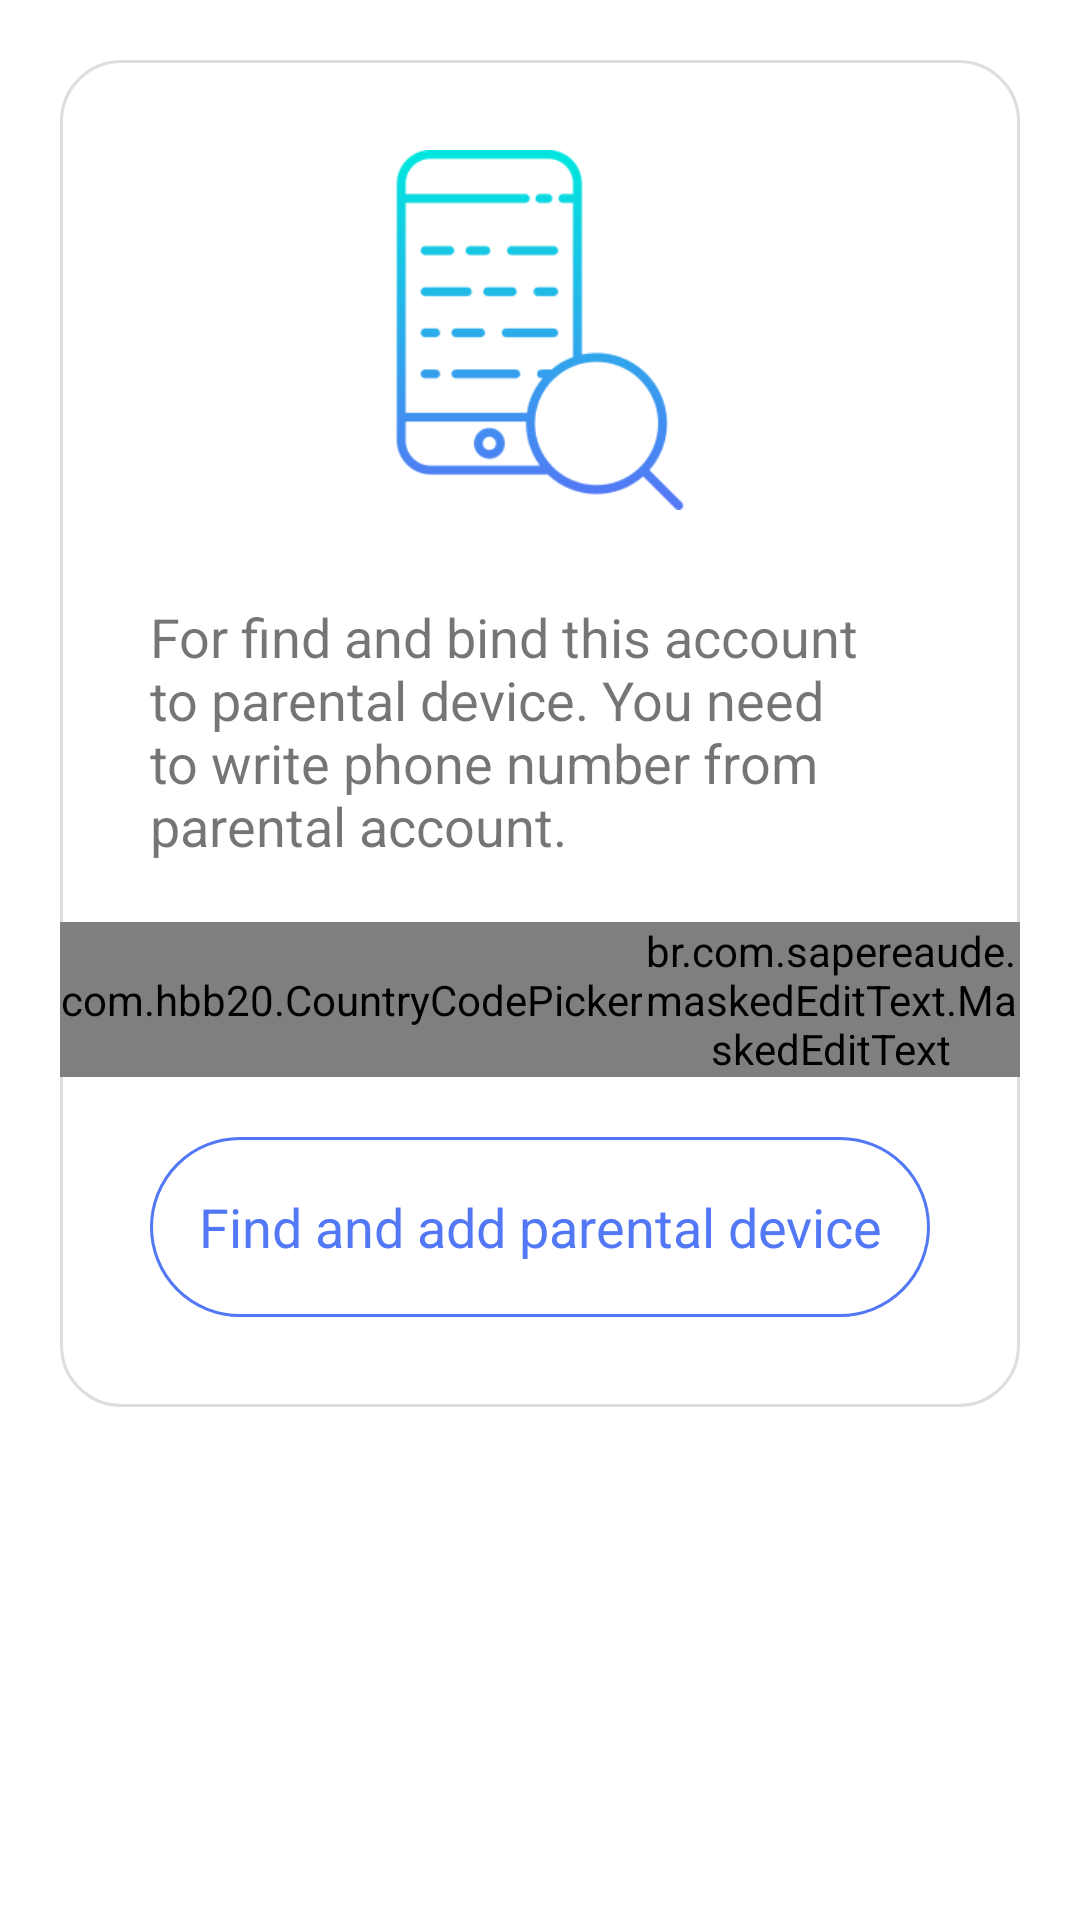

Icons on this 1080w x 1920h Android screen, each with its box as [x1=x1, y1=y1, x2=x2, y2=y2]:
search: [x1=396, y1=150, x2=684, y2=510]
